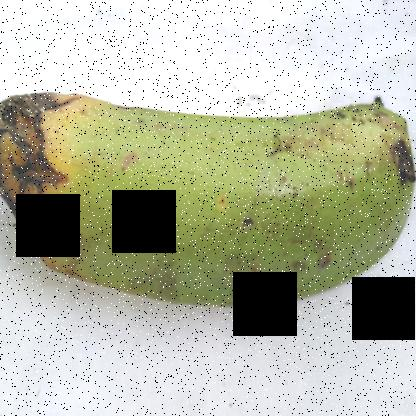rotten: (1, 46, 124, 283)
unripe: (92, 58, 415, 323)
